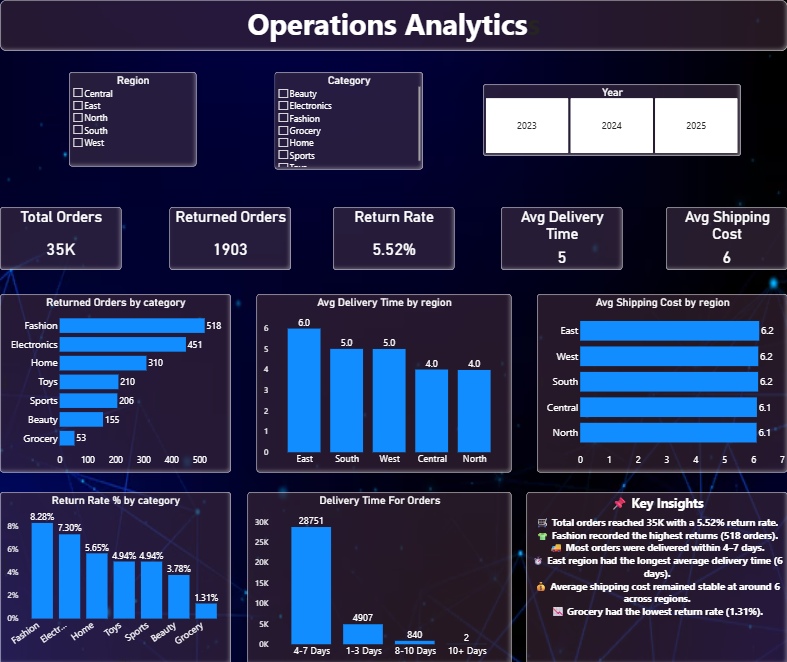

The page's visual inventory and layout, read from the dashboard file:
{"tool":"powerbi","page":{"name":"Page 4","canvas":[3500,3000],"ordinal":3},"visuals":[{"type":"textbox","box":[0,0,3500,226.7],"z":0},{"type":"slicer","title":"Region","fields":{"Values":["ecommerce.region"]},"box":[306.7,320,566.7,420],"z":1},{"type":"slicer","title":"Category","fields":{"Values":["ecommerce.category"]},"box":[1220,320,660,433.3],"z":2},{"type":"advancedSlicerVisual","fields":{"Values":["ecommerce.order_date.Variation.Date Hierarchy.Year"]},"box":[2146.7,373.3,1146.7,320],"z":3},{"type":"card","title":"Total Orders","fields":{"Values":["ecommerce.total orders"]},"box":[0,920,540,280],"z":4},{"type":"card","title":"Returned Orders","fields":{"Values":["ecommerce.Returned Orders"]},"box":[753.3,920,540,280],"z":5},{"type":"card","title":"Return Rate","fields":{"Values":["ecommerce.Return Rate %"]},"box":[1480,920,540,280],"z":6},{"type":"card","title":"Avg Delivery Time","fields":{"Values":["ecommerce.Avg Delivery Time"]},"box":[2226.7,920,540,280],"z":7},{"type":"card","title":"Avg Shipping Cost","fields":{"Values":["ecommerce.Avg Shipping Cost"]},"box":[2960,920,540,280],"z":8},{"type":"clusteredBarChart","fields":{"Category":["ecommerce.category"],"Y":["ecommerce.Returned Orders"]},"box":[0,1306.7,1026.7,793.3],"z":9},{"type":"clusteredColumnChart","fields":{"Category":["ecommerce.region"],"Y":["ecommerce.Avg Delivery Time"]},"box":[1140,1306.7,1133.3,793.3],"z":10},{"type":"clusteredBarChart","fields":{"Category":["ecommerce.region"],"Y":["ecommerce.Avg Shipping Cost"]},"box":[2386.7,1306.7,1113.3,793.3],"z":11},{"type":"clusteredColumnChart","fields":{"Category":["ecommerce.category"],"Y":["ecommerce.Return Rate %"]},"box":[0,2186.7,1026.7,766.7],"z":12},{"type":"clusteredColumnChart","title":"Delivery Time Distribution","fields":{"Category":["ecommerce.Delivery Time Group"],"Y":["ecommerce.total orders"]},"box":[1100,2186.7,1173.3,766.7],"z":13},{"type":"textbox","box":[2340,2186.7,1160,766.7],"z":14}]}

Visuals, with their boxes in screenshot pixels (x1, y1, x2, y2), scaled from the page's 3500x3000 canvas onto the 787x662 screenshot:
textbox: bbox(0, 0, 786, 50)
"Region" slicer: bbox(69, 71, 196, 163)
"Category" slicer: bbox(274, 71, 423, 166)
advancedSlicerVisual - ecommerce.order_date.Variation.Date Hierarchy.Year: bbox(483, 82, 741, 153)
"Total Orders" card: bbox(0, 203, 121, 265)
"Returned Orders" card: bbox(169, 203, 291, 265)
"Return Rate" card: bbox(333, 203, 454, 265)
"Avg Delivery Time" card: bbox(501, 203, 622, 265)
"Avg Shipping Cost" card: bbox(666, 203, 786, 265)
clusteredBarChart - ecommerce.category x ecommerce.Returned Orders: bbox(0, 288, 231, 463)
clusteredColumnChart - ecommerce.region x ecommerce.Avg Delivery Time: bbox(256, 288, 511, 463)
clusteredBarChart - ecommerce.region x ecommerce.Avg Shipping Cost: bbox(537, 288, 786, 463)
clusteredColumnChart - ecommerce.category x ecommerce.Return Rate %: bbox(0, 483, 231, 652)
"Delivery Time Distribution" clusteredColumnChart: bbox(247, 483, 511, 652)
textbox: bbox(526, 483, 786, 652)
